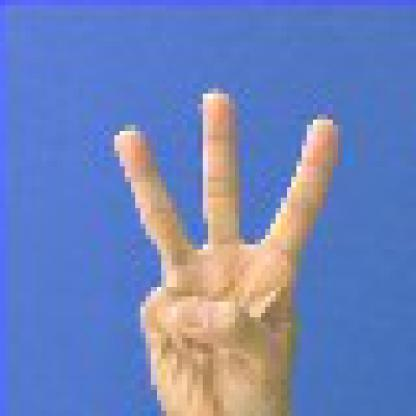three: (99, 62, 348, 411)
